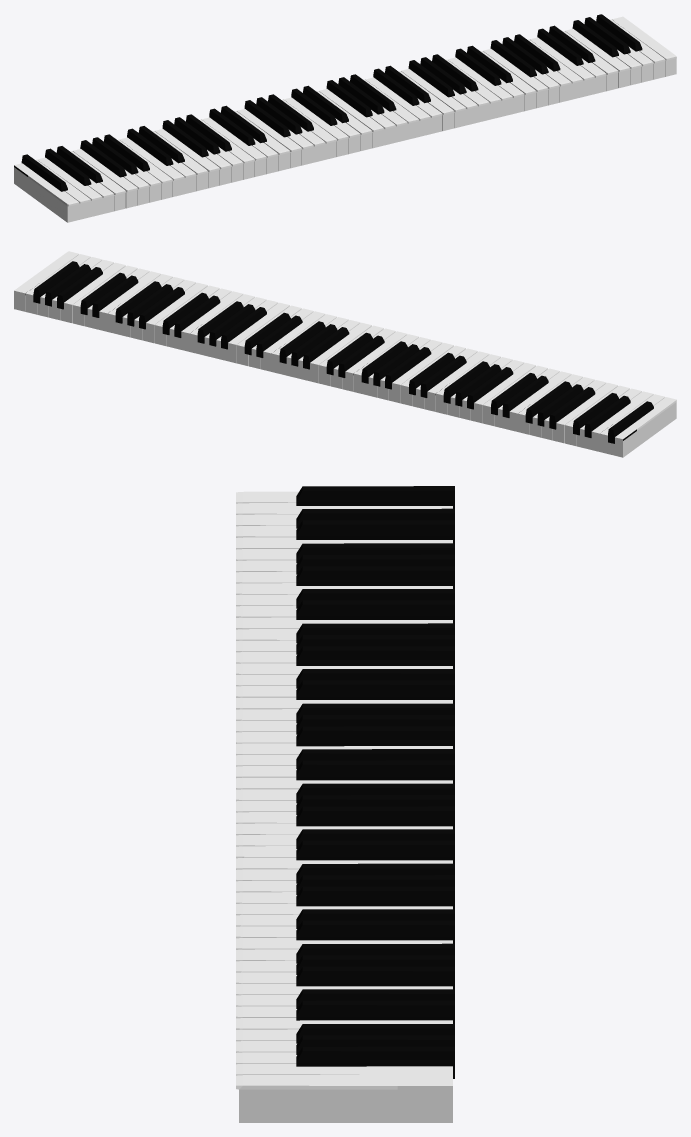
The model's file is Keys.glb.
3 views of the same model, one above another, from view 1: azimuth 30°, elevation 25°; view 2: azimuth 150°, elevation 25°; view 3: azimuth 270°, elevation 25° (orthographic). The views are drawn at different scales.
Visible parts, largest first — view 1: Cube; view 2: Cube; view 3: Cube.
Part boxes in pixels (bbox=[...]): Cube: bbox=[14, 14, 676, 222]; Cube: bbox=[14, 251, 676, 457]; Cube: bbox=[236, 486, 454, 1122].
Size of the model in its own units: 45.58 by 1.83 by 7.1.
1 material, 1 textured.
